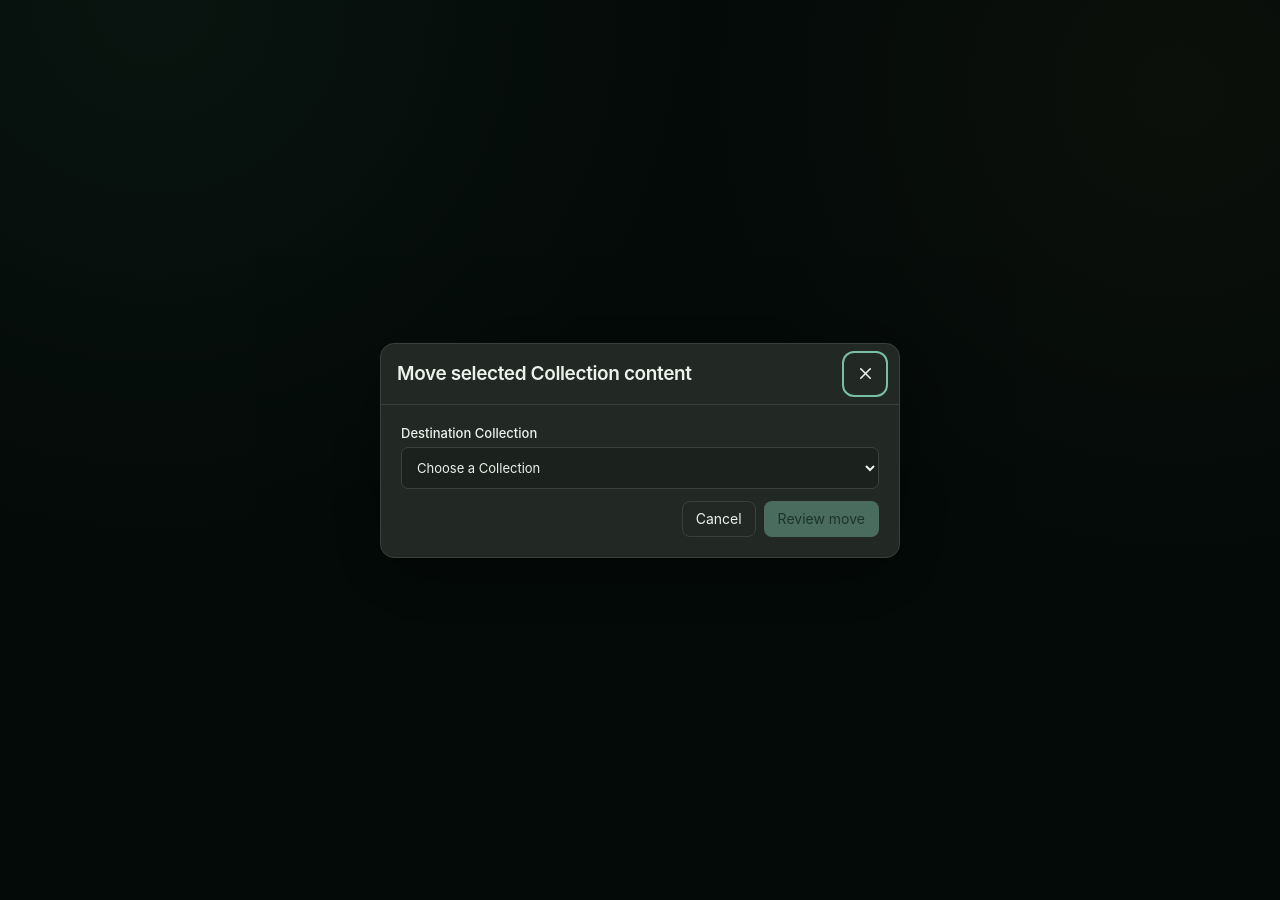
Collection bulk change dialog › pins the selected destination revision and preserves the source appearance in a move preview
The width and height of the screenshot is (1280, 900).
Select "Travel" in the dropdown named "Destination Collection" at (640, 468), box 401,446 -> 879,488
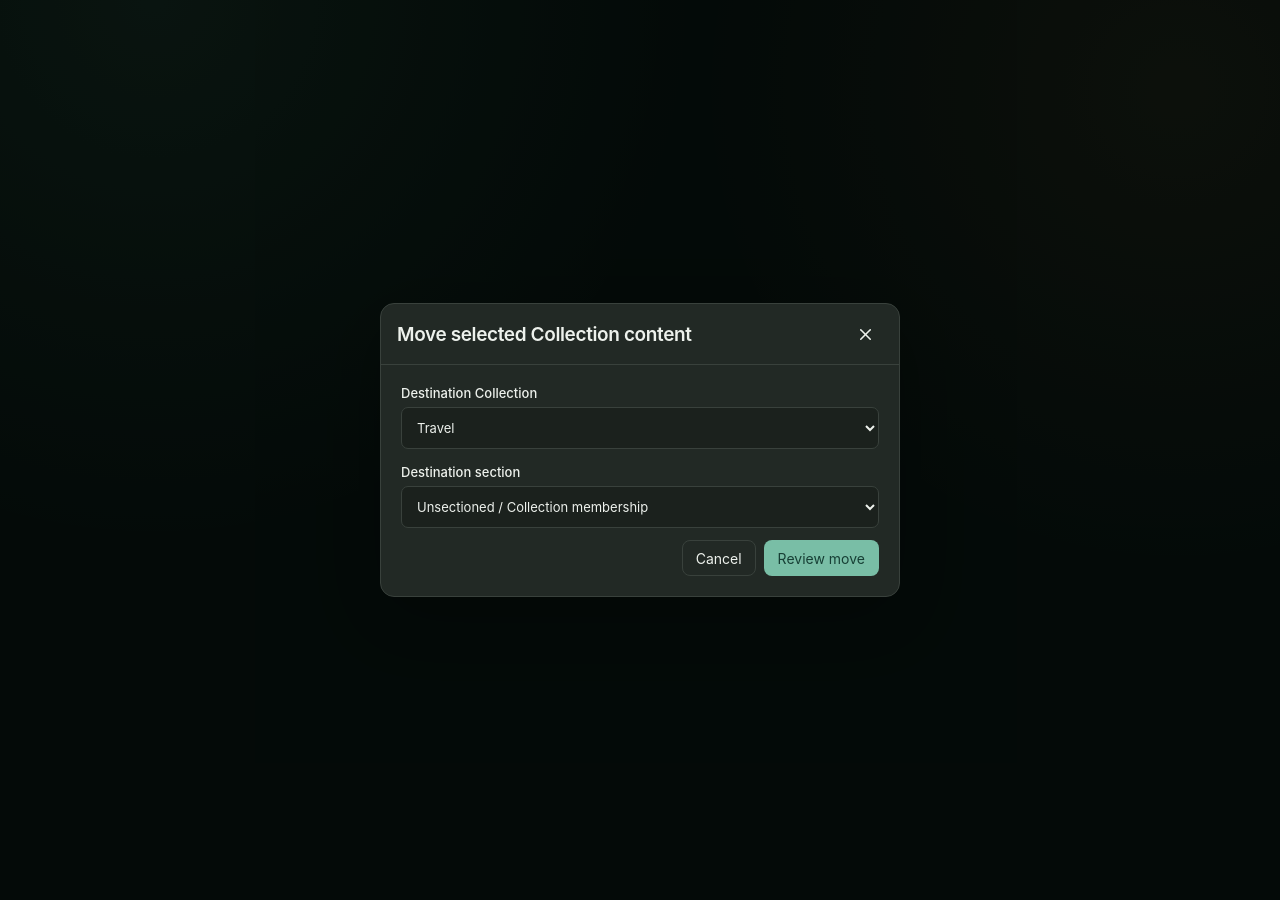
Click the button "Review move".
click(821, 558)  # box 764,540 -> 879,576
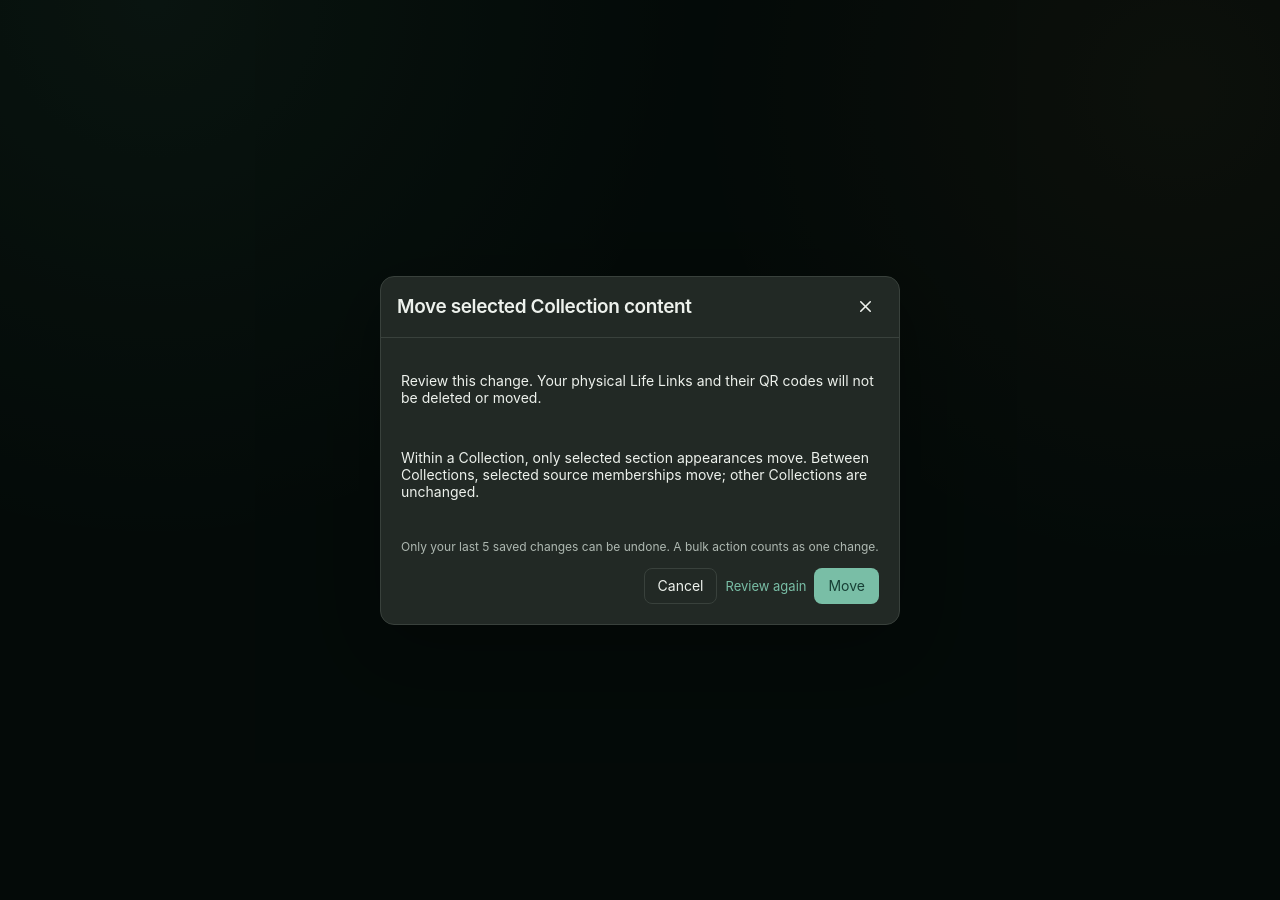
Click the button "Review again".
click(766, 586)  # box 726,568 -> 806,604
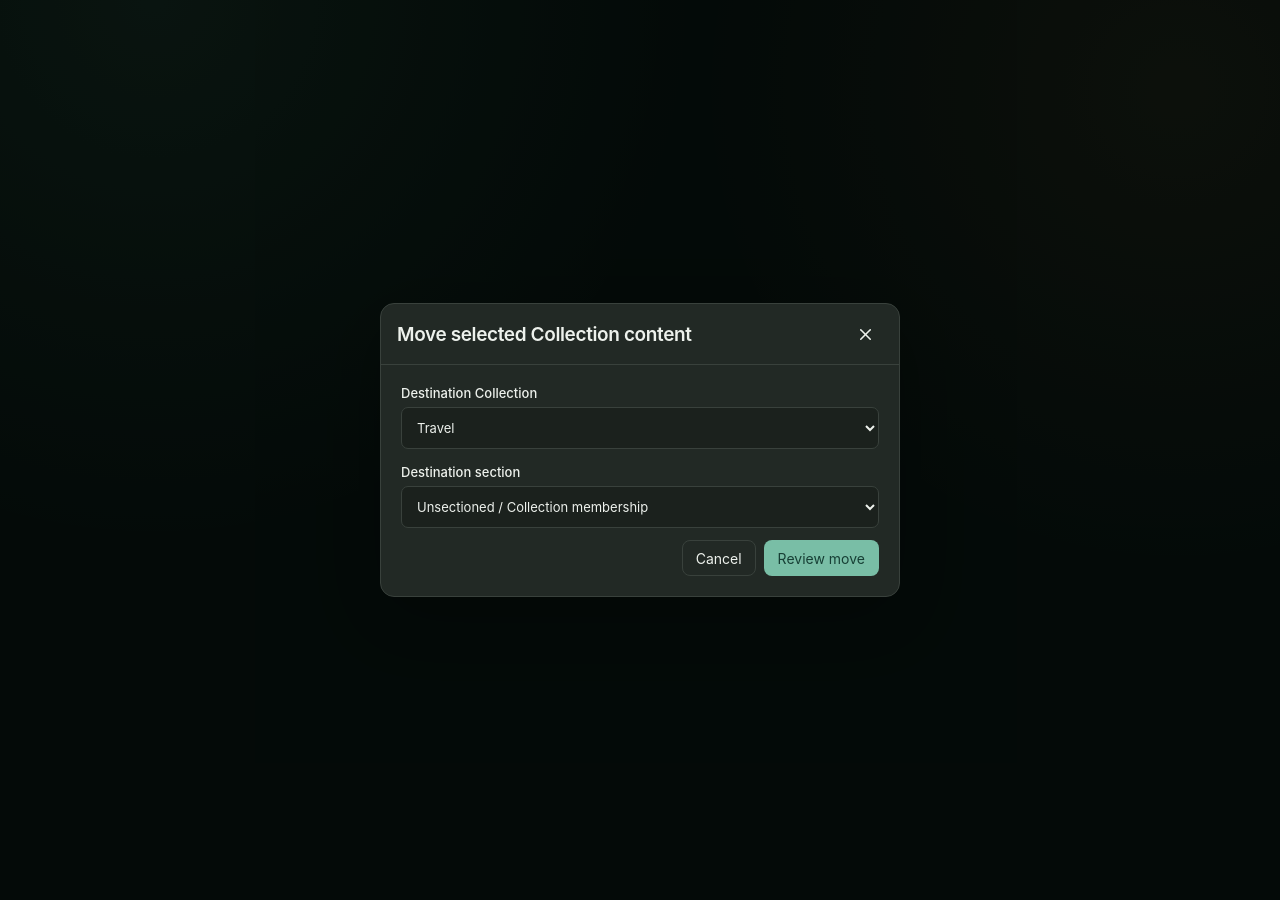
Expected: the dropdown named "Destination Collection" shows "Travel", 401,407 -> 879,449
